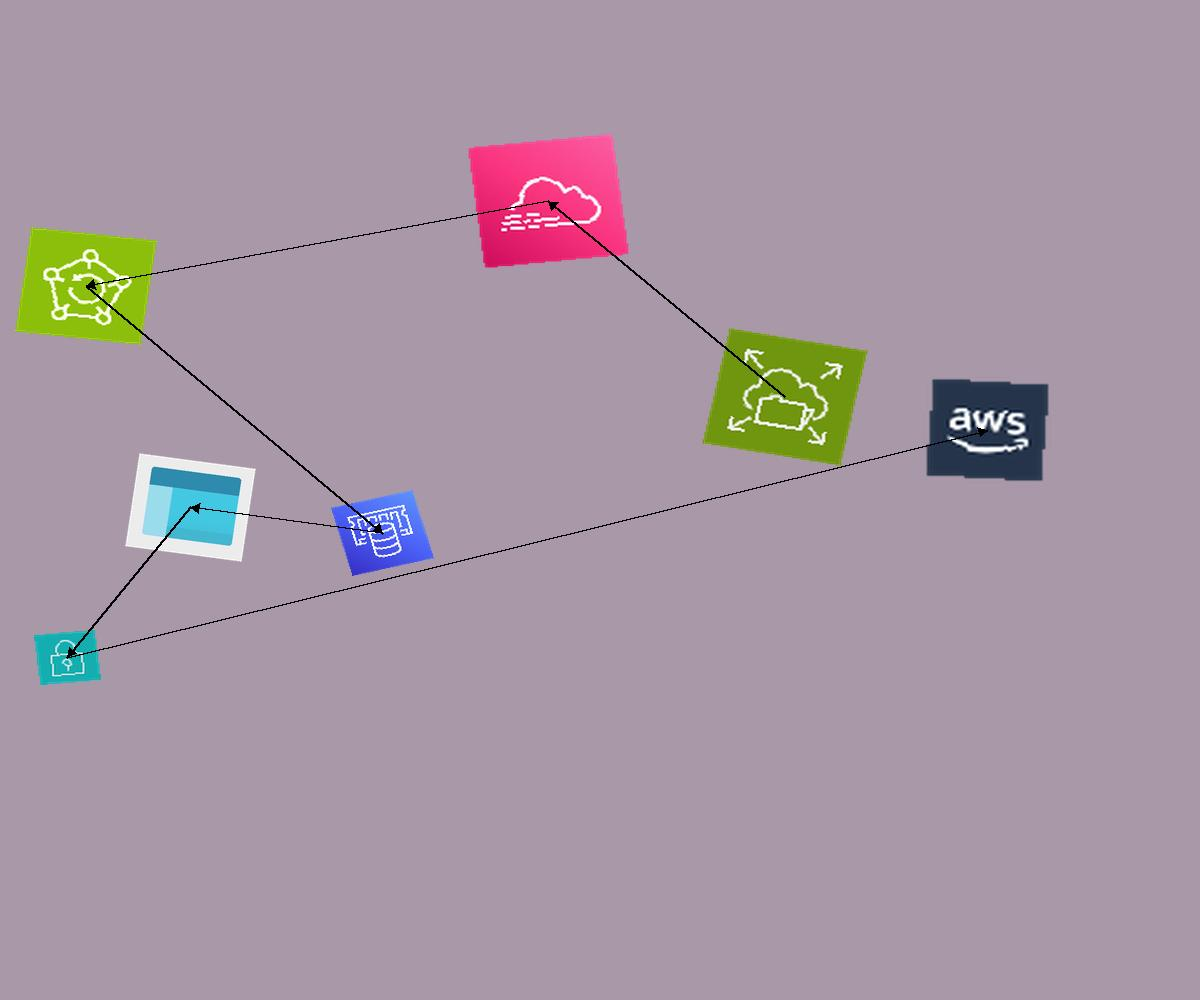AWS-Backup: (15, 227, 157, 345)
AWS-Cloud-logo: (924, 377, 1051, 483)
AWS-CloudTrail: (467, 133, 630, 269)
AWS-EFS: (701, 327, 869, 467)
AWS-ElastiCache: (331, 490, 434, 576)
AWS-Private-subnet: (34, 630, 101, 685)
Azure_management-portal: (125, 453, 256, 562)
